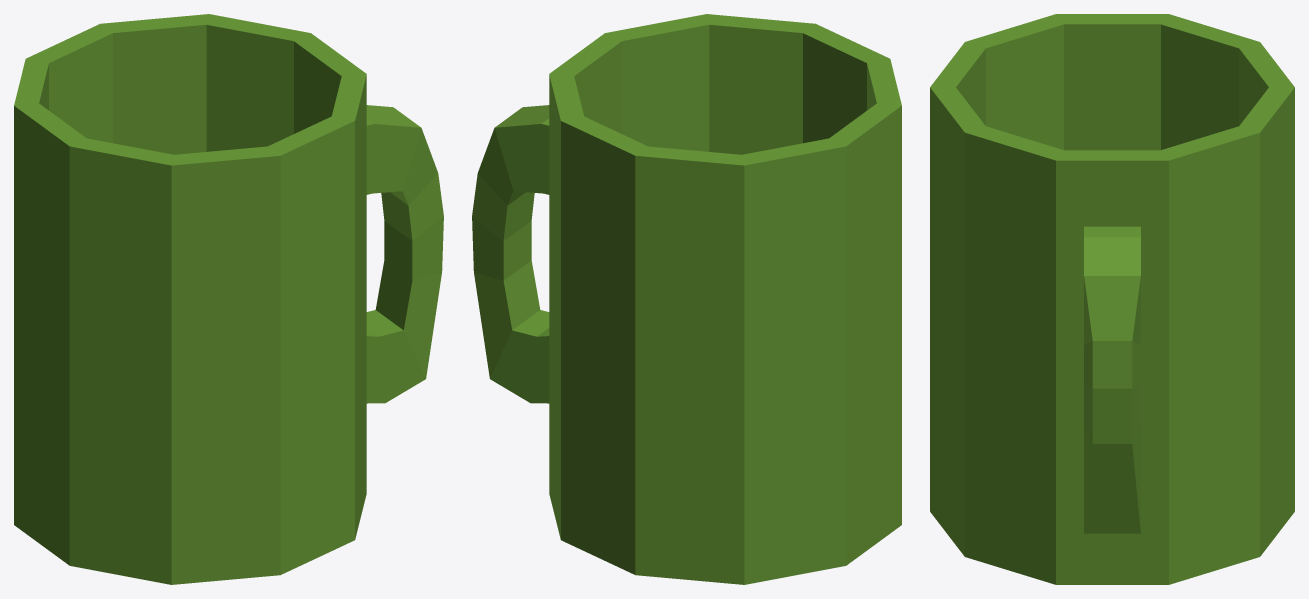
File: cup.fbx
3 views of the same model, side by side, from view 1: azimuth 30°, elevation 25°; view 2: azimuth 150°, elevation 25°; view 3: azimuth 270°, elevation 25° (orthographic).
Parts seen in each view (by area): view 1: Cylinder.025; view 2: Cylinder.025; view 3: Cylinder.025.
Part boxes in pixels (bbox=[...]): Cylinder.025: bbox=[14, 14, 443, 584]; Cylinder.025: bbox=[472, 14, 901, 584]; Cylinder.025: bbox=[930, 14, 1294, 584].
Size of the model in its own units: 0.1133 by 0.1159 by 0.0902.
